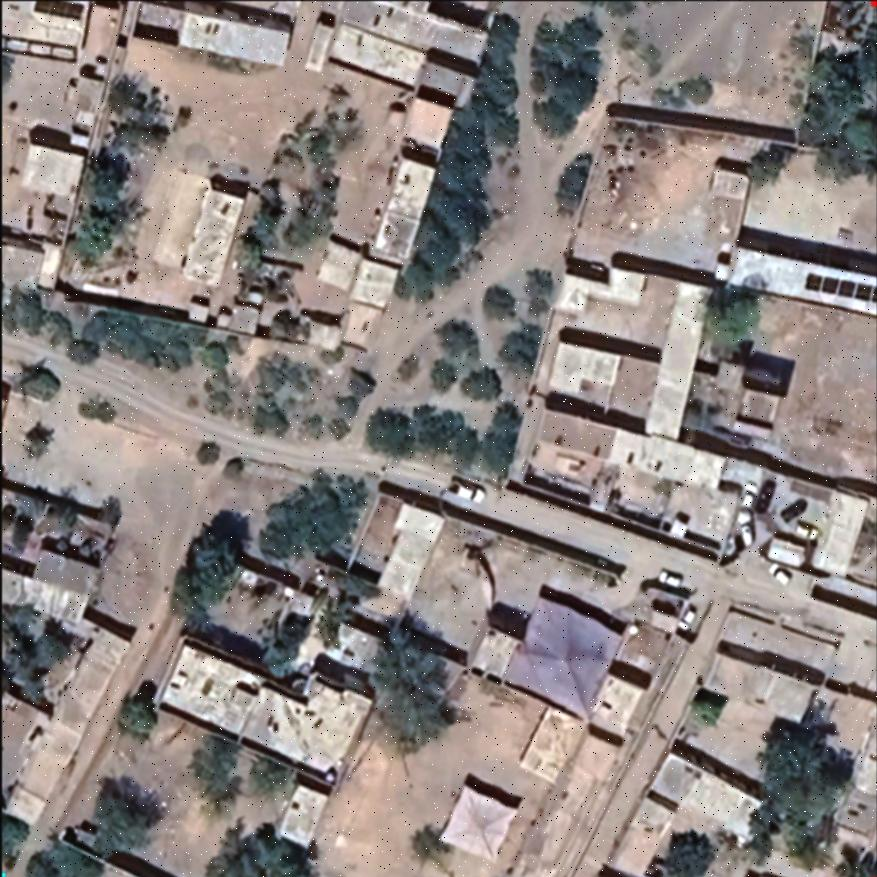Solarpanel: (796, 265, 876, 307)
